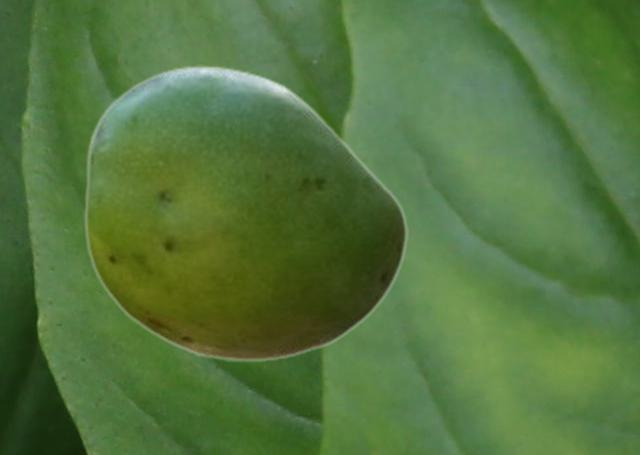green_mango: (83, 64, 407, 362)
